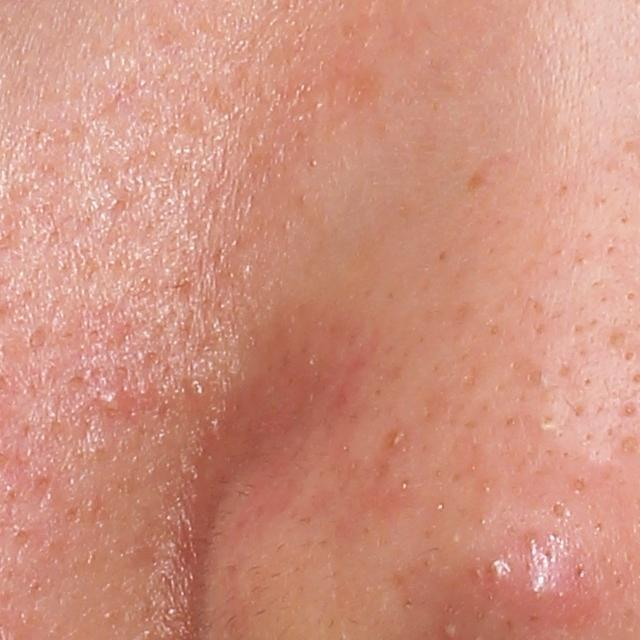comedo: (548, 499, 574, 524), (536, 413, 556, 432), (618, 346, 639, 363)
melasma: (464, 164, 493, 197)
papule: (515, 564, 562, 611), (100, 381, 128, 413)
pustule: (440, 621, 457, 638)
